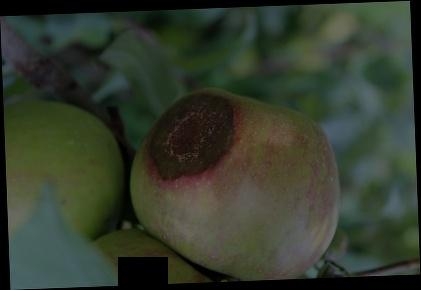rotten apple: (122, 81, 339, 281)
